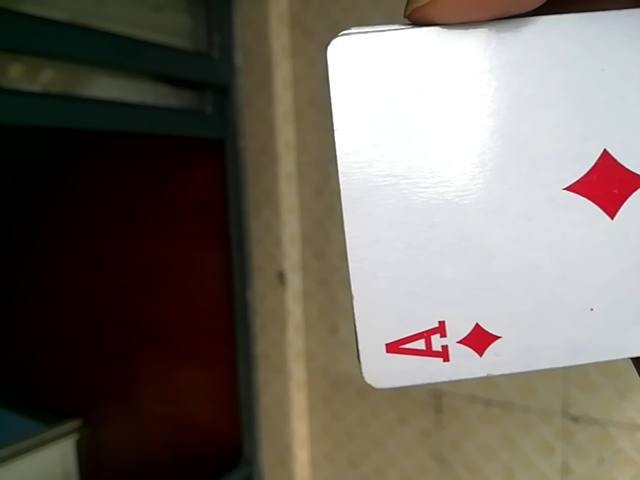fk a: (322, 2, 640, 398)
